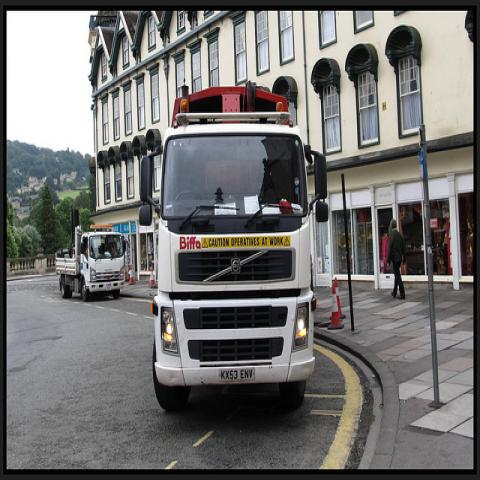truck: (150, 115, 311, 408), (55, 224, 126, 302)
